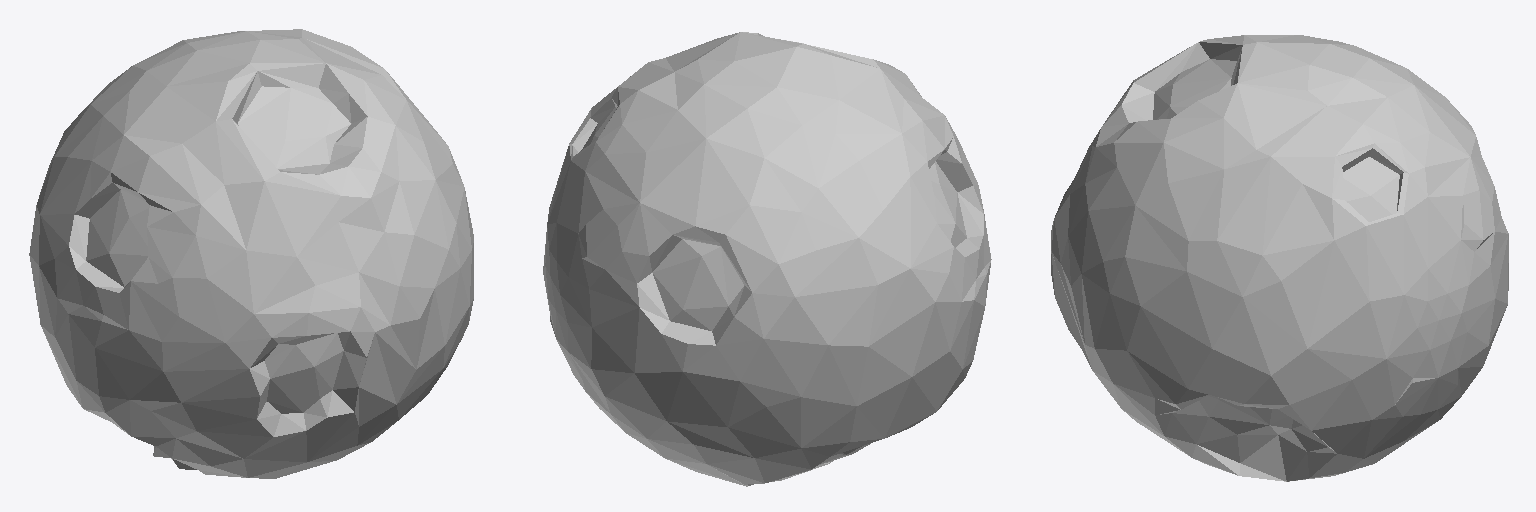
File: Moon.obj
The picture shows the model from 3 angles: view 1: azimuth 30°, elevation 25°; view 2: azimuth 150°, elevation 25°; view 3: azimuth 270°, elevation 25°; orthographic projection.
Parts seen in each view (by area): view 1: Icosphere_Icosphere.001; view 2: Icosphere_Icosphere.001; view 3: Icosphere_Icosphere.001.
Part boxes in pixels (x1,y1,x2,y2): Icosphere_Icosphere.001: (29, 29, 473, 478); Icosphere_Icosphere.001: (543, 32, 991, 486); Icosphere_Icosphere.001: (1051, 35, 1508, 481).
Bounding box in the file's own units: 2.02 × 2.02 × 2.04.